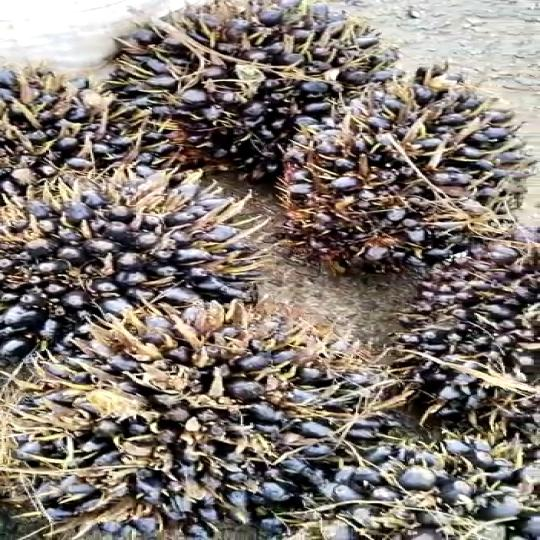mentah: (0, 293, 369, 540), (0, 159, 253, 360), (287, 60, 519, 269), (107, 0, 399, 159), (383, 199, 540, 443), (0, 60, 136, 190)
